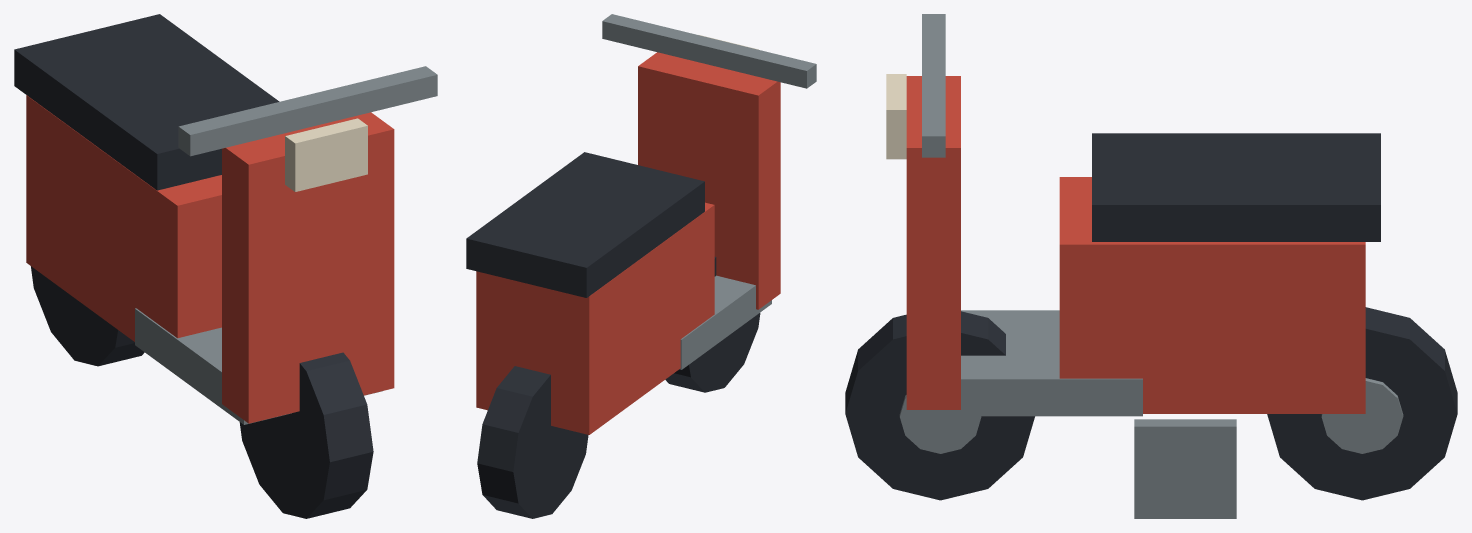
File: parked_scooter.glb
3 views of the same model, side by side, from view 1: azimuth 30°, elevation 25°; view 2: azimuth 150°, elevation 25°; view 3: azimuth 270°, elevation 25° (orthographic). The views are drawn at different scales.
Parts seen in each view (by area): view 1: parked_scooter_Mesh; view 2: parked_scooter_Mesh; view 3: parked_scooter_Mesh.
Boxes of the visible parts, bbox=[...] form: parked_scooter_Mesh: bbox=[14, 14, 437, 518]; parked_scooter_Mesh: bbox=[466, 14, 816, 518]; parked_scooter_Mesh: bbox=[845, 14, 1457, 518].
Bounding box in the file's own units: 0.85 × 1.34 × 1.8.
